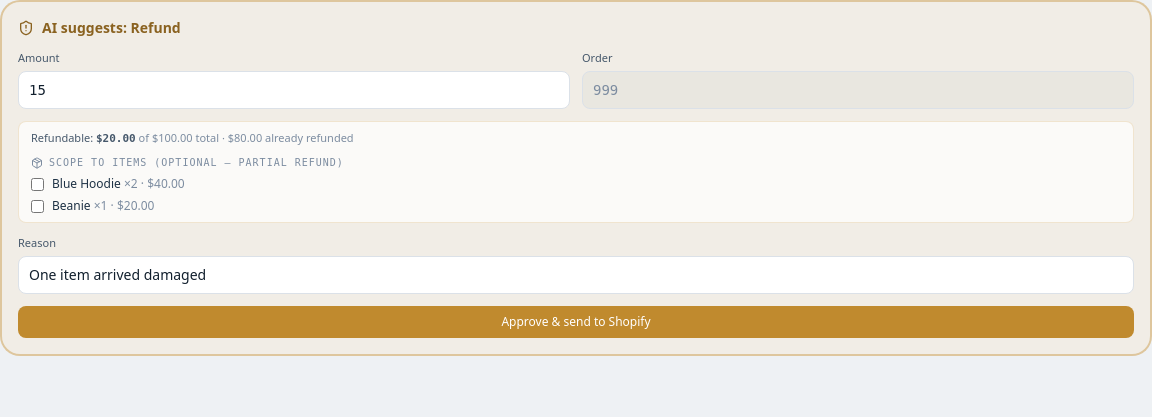
RefundApprovalPanel › blocks amounts above what is still refundable
The image size is (1152, 417).
Expected: the text "Refundable:" is shown, [31, 130, 96, 144]
Replace the text in the number field showing "15" with "30" at (294, 90), box [18, 70, 570, 108]
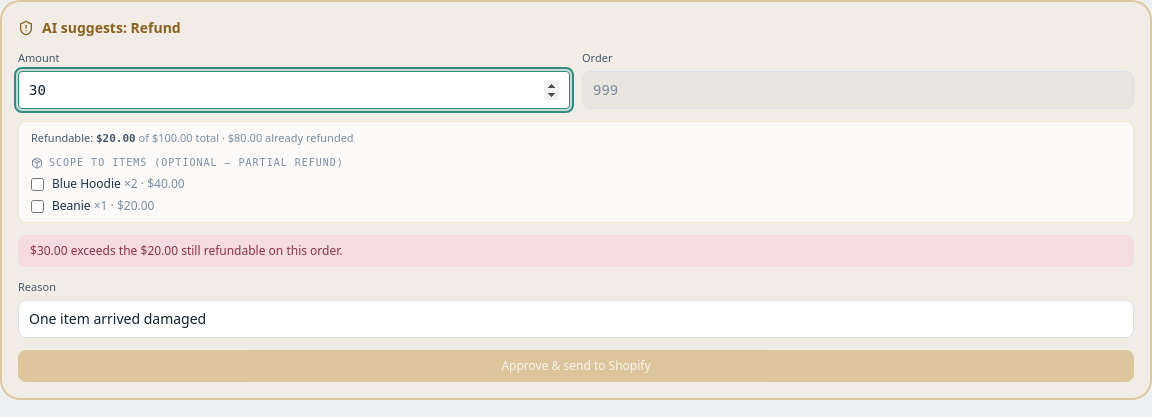
Result: the button "Approve & send to Shopify" is disabled at [18, 350, 1134, 382]
Result: the text "$30.00 exceeds the $20.00 still refundable on this order." is shown at [18, 235, 1134, 267]
